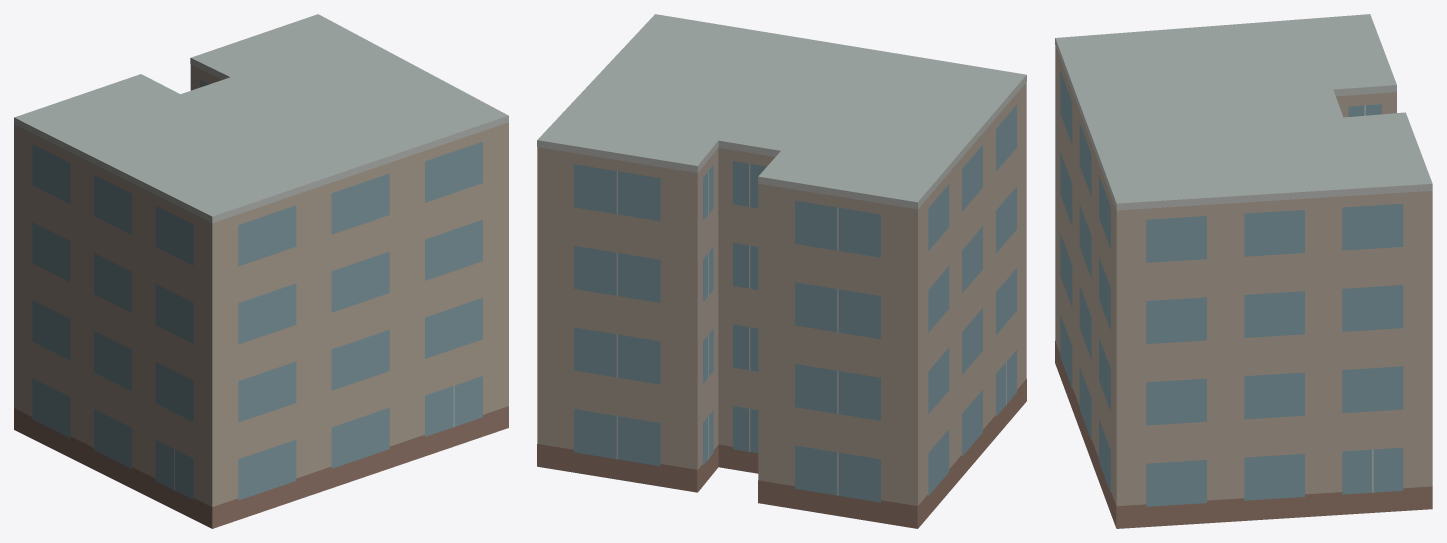
File: survey-upis-32804023.glb
3 renders of one model, left to right at view 1: azimuth 30°, elevation 25°; view 2: azimuth 150°, elevation 25°; view 3: azimuth 270°, elevation 25°, orthographic. The views are drawn at different scales.
Visible parts, largest first — view 1: survey-upis-32804023.tmp; view 2: survey-upis-32804023.tmp; view 3: survey-upis-32804023.tmp.
Part boxes in pixels (x1,y1,x2,y2): survey-upis-32804023.tmp: (14,14,508,528); survey-upis-32804023.tmp: (537,14,1026,528); survey-upis-32804023.tmp: (1055,14,1432,528).
Bounding box in the file's own units: 14.26 × 11.4 × 12.
